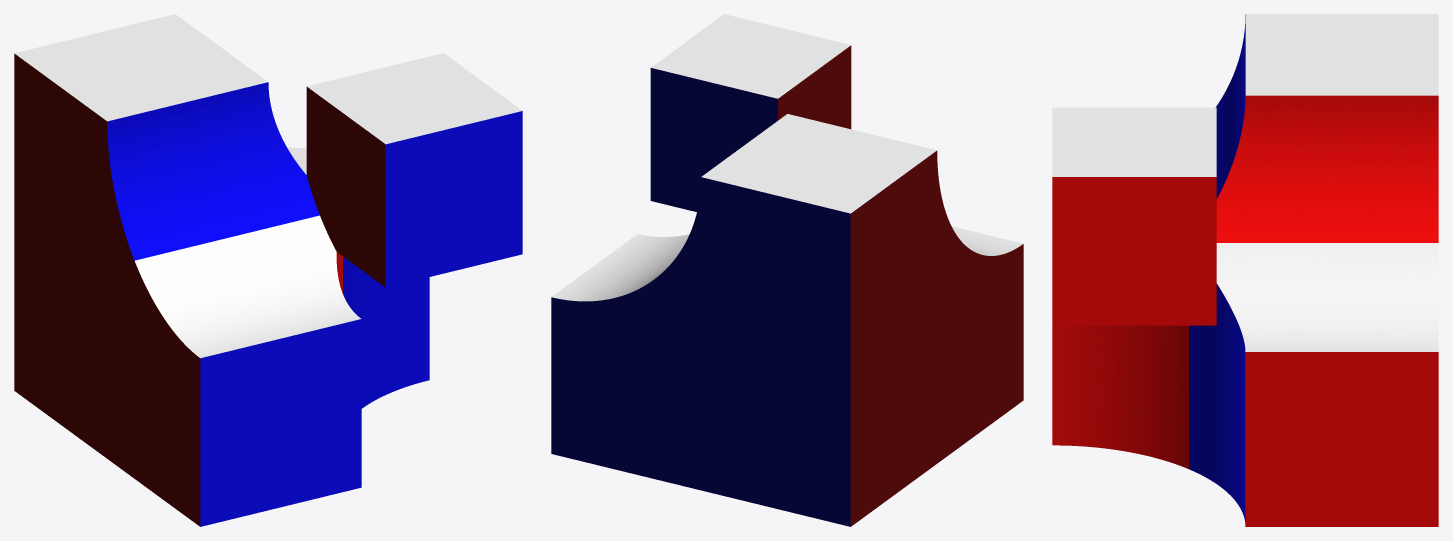
File: labeled_mesh.glb
The picture shows the model from 3 angles, left to right: view 1: azimuth 30°, elevation 25°; view 2: azimuth 150°, elevation 25°; view 3: azimuth 270°, elevation 25°; orthographic projection. The views are drawn at different scales.
Bounding box in the file's own units: 10 × 10 × 10.
1 material, 1 textured.
